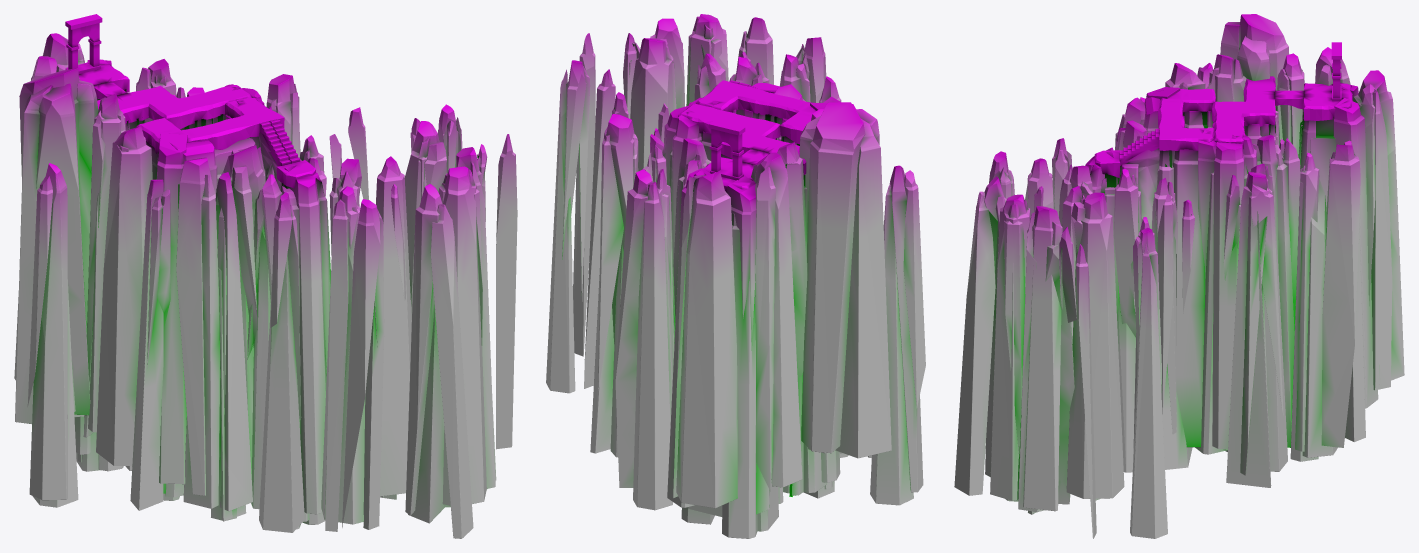
Rendered from level.glb.
3 views of the same model, side by side, from view 1: azimuth 30°, elevation 25°; view 2: azimuth 150°, elevation 25°; view 3: azimuth 270°, elevation 25° (orthographic). The views are drawn at different scales.
Parts seen in each view (by area): view 1: rock, marble; view 2: rock, marble; view 3: rock, marble.
Boxes of the visible parts, x1,y1,x2,y2 form: rock: (14,33,517,538); marble: (65,14,315,188); rock: (546,14,925,538); marble: (678,80,815,192); rock: (954,14,1404,538); marble: (1094,42,1352,177).
Bounding box in the file's own units: 21.68 × 21.16 × 22.38.
